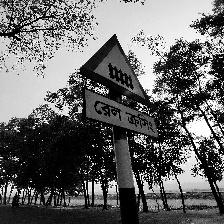Rail-crossing: (79, 33, 159, 140)
